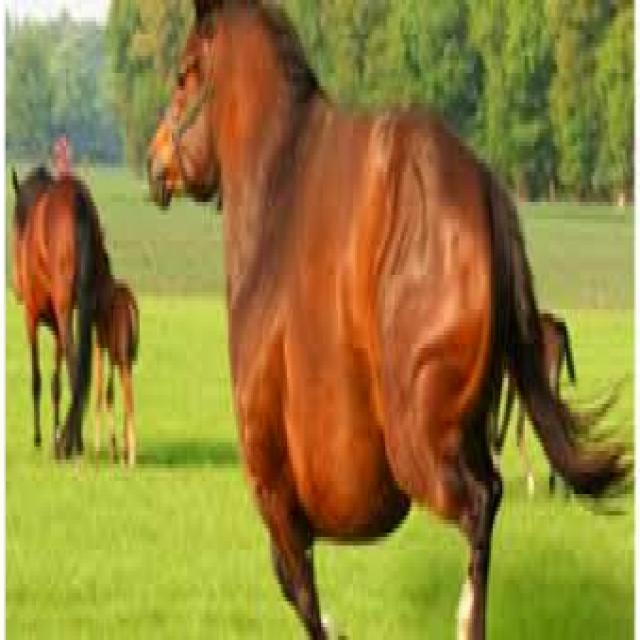horse: (149, 0, 629, 636), (13, 168, 96, 451)
